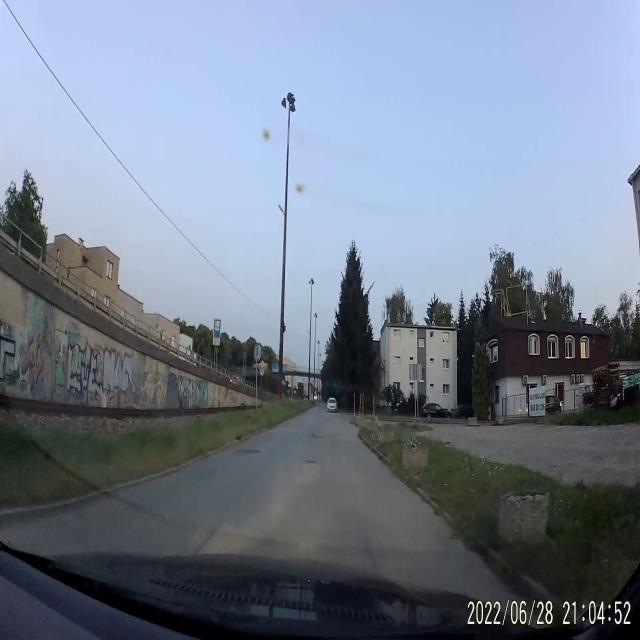Pothole: (233, 446, 261, 457), (302, 455, 316, 468), (311, 432, 324, 440)
